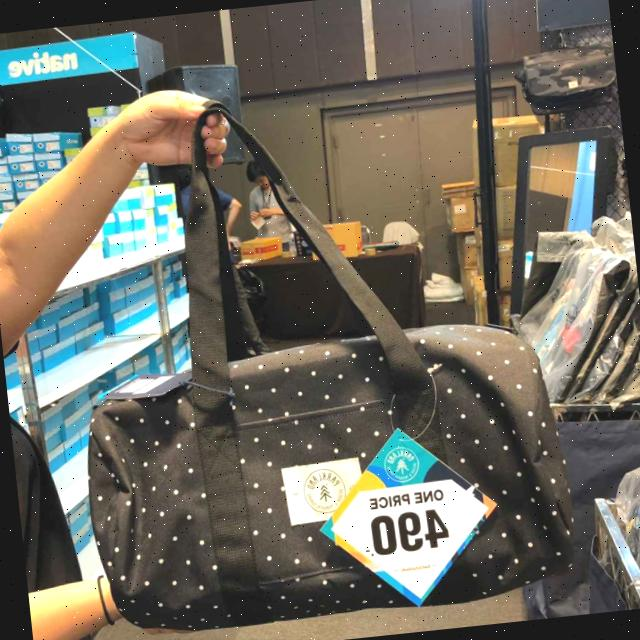Handbag: (68, 311, 600, 640)
